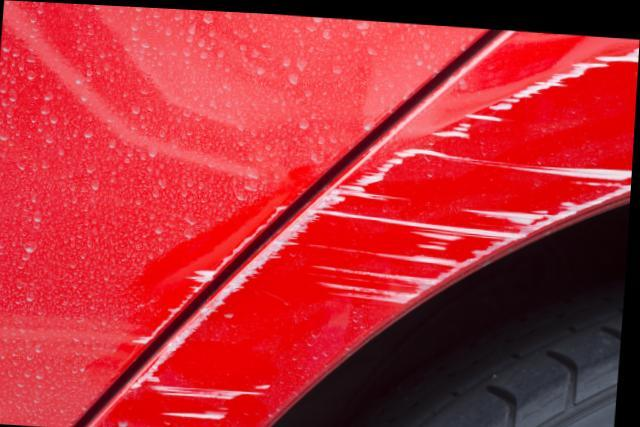scratch: (129, 32, 640, 423), (134, 199, 297, 345)
